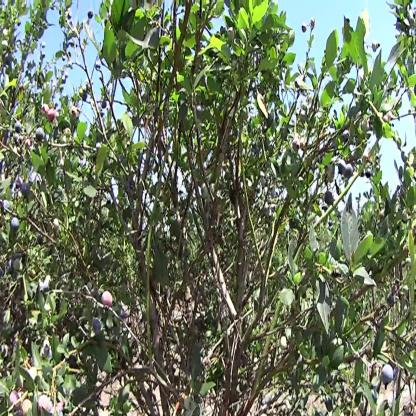intermediate: (40, 397, 52, 413), (102, 291, 113, 308), (44, 106, 55, 123), (293, 138, 301, 152), (11, 395, 19, 407), (71, 108, 78, 119)
mature: (339, 161, 354, 177), (383, 365, 393, 383), (12, 217, 20, 235), (22, 181, 31, 196), (93, 320, 102, 334), (37, 130, 46, 143), (302, 23, 308, 32)
young: (22, 399, 32, 416)
